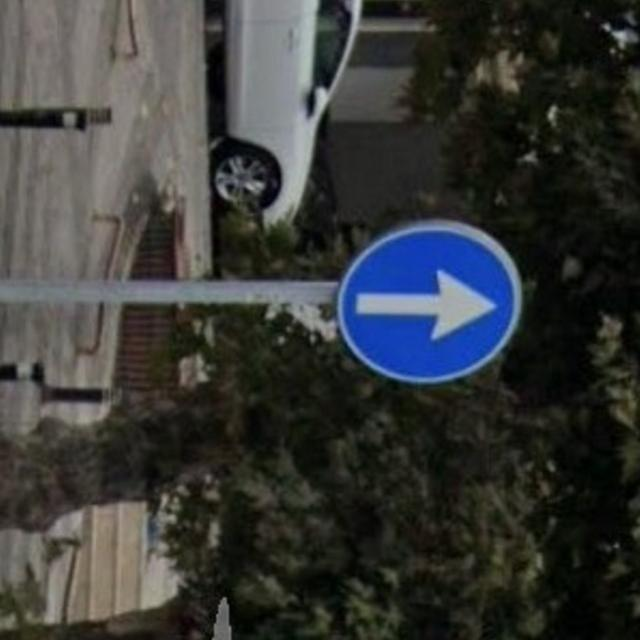Turn Right: (338, 212, 530, 371)
